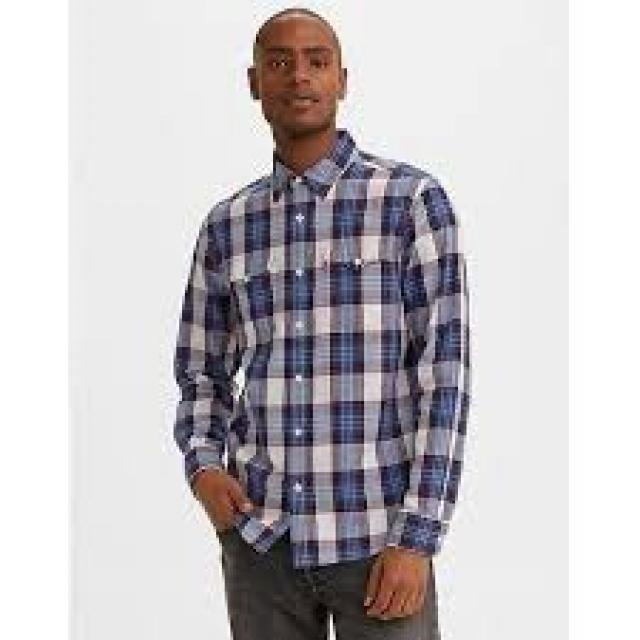plaid: (172, 155, 476, 559)
